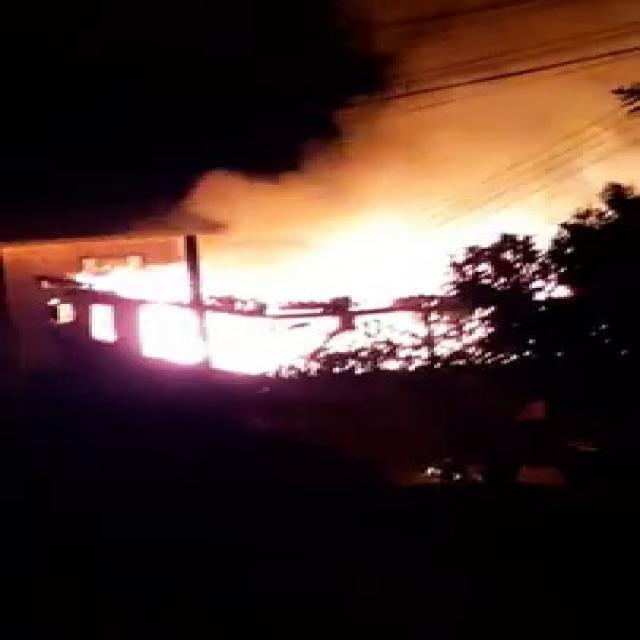Fire: (57, 234, 551, 362)
Smoke: (185, 0, 617, 211)
